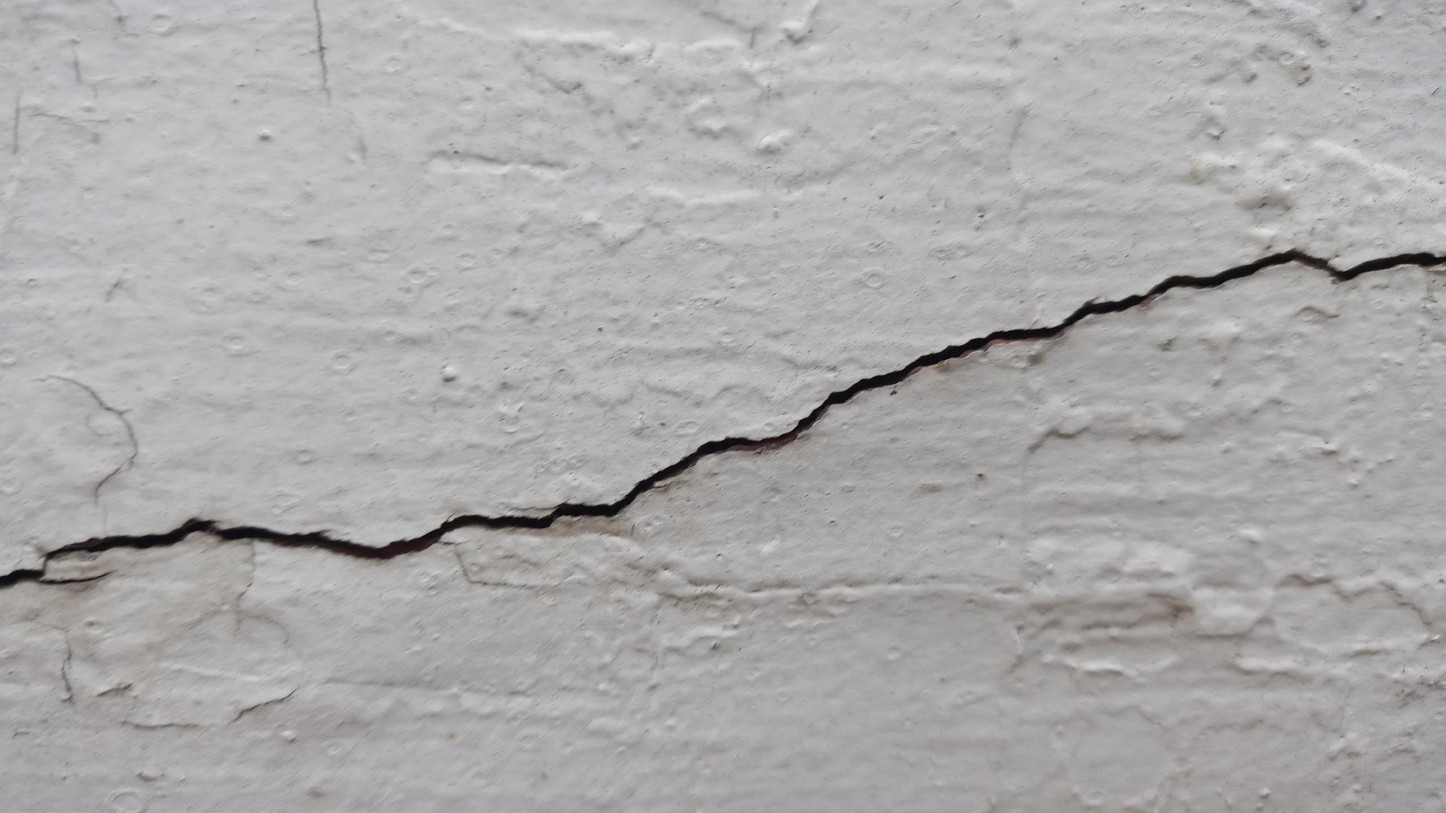crack: (2, 243, 1435, 596)
